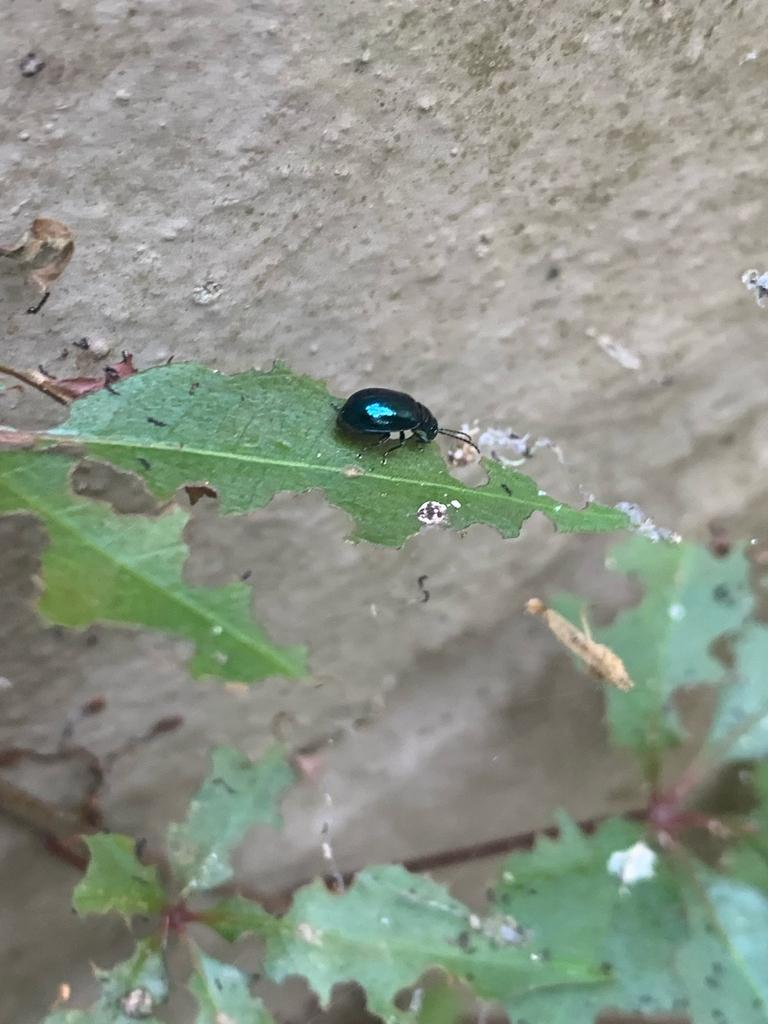flea_beetle: (301, 352, 497, 490)
